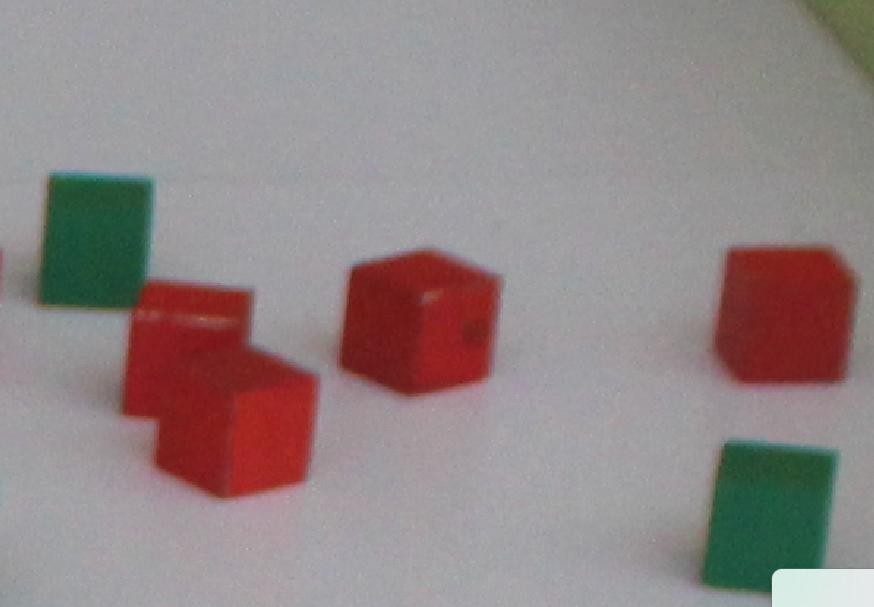green cube: (695, 433, 840, 595), (43, 177, 147, 298)
red cube: (145, 332, 328, 501), (340, 240, 507, 397), (710, 244, 859, 383), (121, 274, 261, 419)
